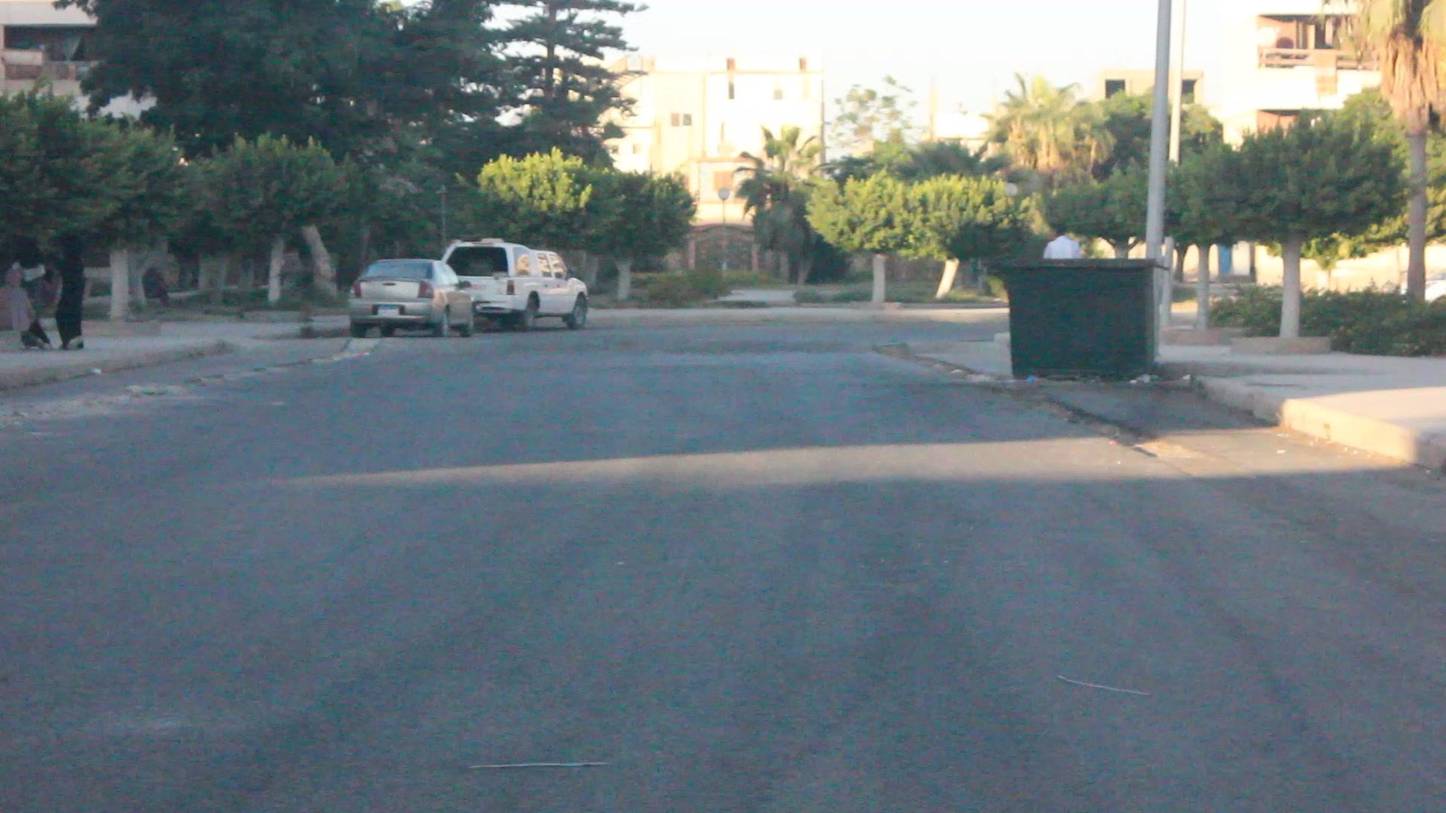Bump: (296, 329, 870, 354)
